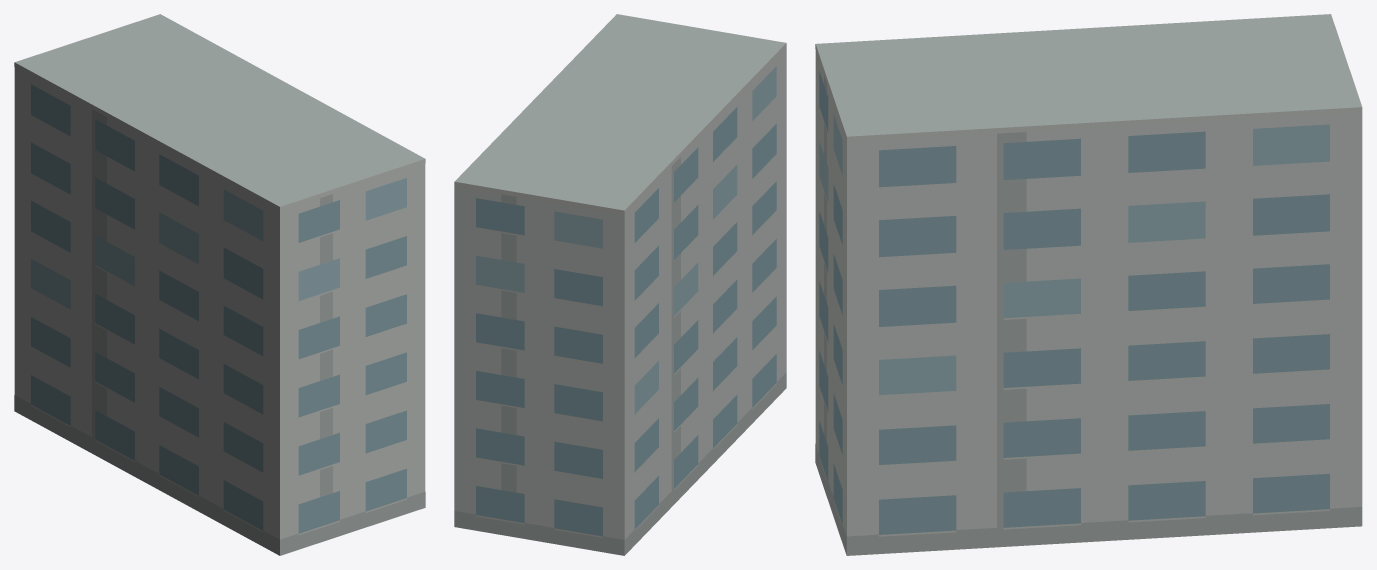
Rendered from survey-upis-32725850.glb.
3 renders of one model, left to right at view 1: azimuth 30°, elevation 25°; view 2: azimuth 150°, elevation 25°; view 3: azimuth 270°, elevation 25°, orthographic. The views are drawn at different scales.
Visible parts, largest first — view 1: survey-upis-32725850.tmp; view 2: survey-upis-32725850.tmp; view 3: survey-upis-32725850.tmp.
Boxes of the visible parts, x1,y1,x2,y2 form: survey-upis-32725850.tmp: (14,14,425,555); survey-upis-32725850.tmp: (454,14,786,555); survey-upis-32725850.tmp: (815,14,1362,555).
Size of the model in its own units: 11.75 by 18.7 by 22.12.
